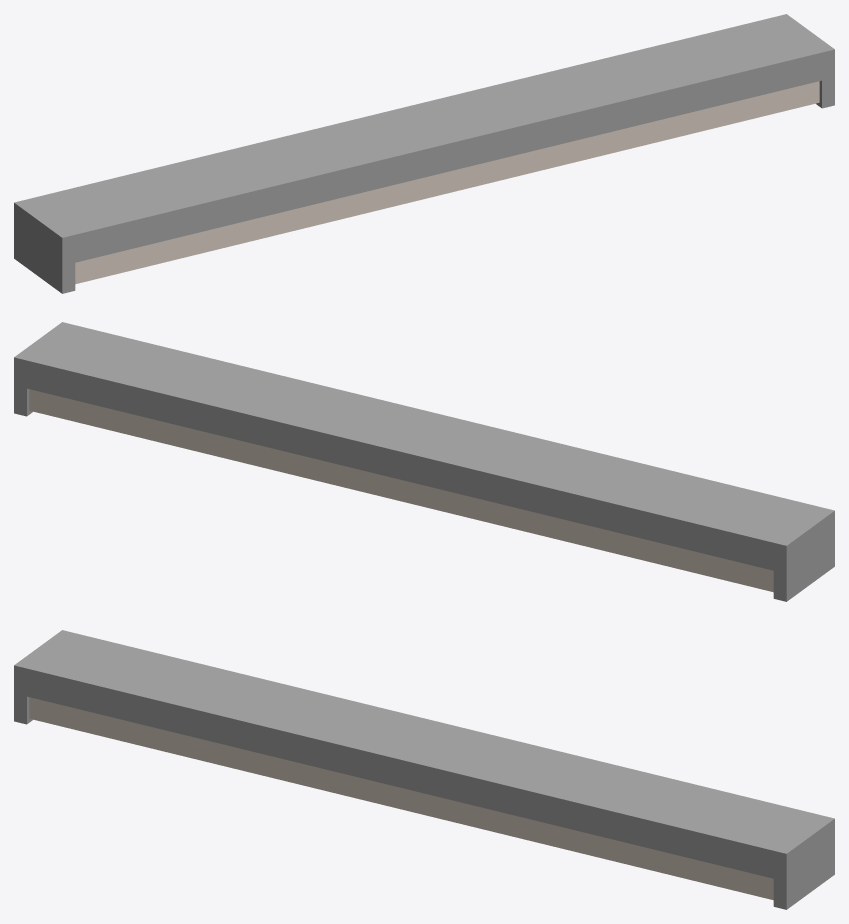
Rendered from SM_Props_Interior_Shop_Light_CeilingLight_01.fbx.
3 views of the same model, one above another, from view 1: azimuth 30°, elevation 25°; view 2: azimuth 150°, elevation 25°; view 3: azimuth 330°, elevation 25° (orthographic).
Parts seen in each view (by area): view 1: SM_Props_Interior_Shop_Light_CeilingLight_01; view 2: SM_Props_Interior_Shop_Light_CeilingLight_01; view 3: SM_Props_Interior_Shop_Light_CeilingLight_01.
Part boxes in pixels (x1,y1,x2,y2): SM_Props_Interior_Shop_Light_CeilingLight_01: (14, 14, 834, 293); SM_Props_Interior_Shop_Light_CeilingLight_01: (14, 322, 834, 601); SM_Props_Interior_Shop_Light_CeilingLight_01: (14, 630, 834, 909).
Bounding box in the file's own units: 120 × 8.31 × 13.
